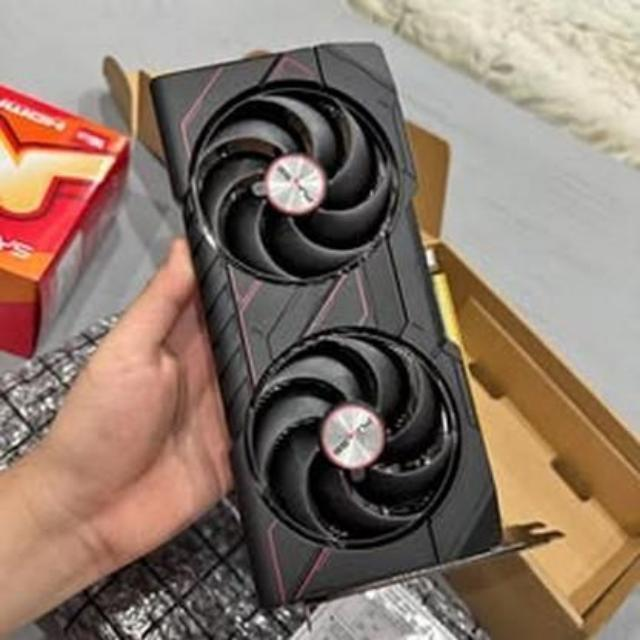GPU: (160, 32, 514, 594)
